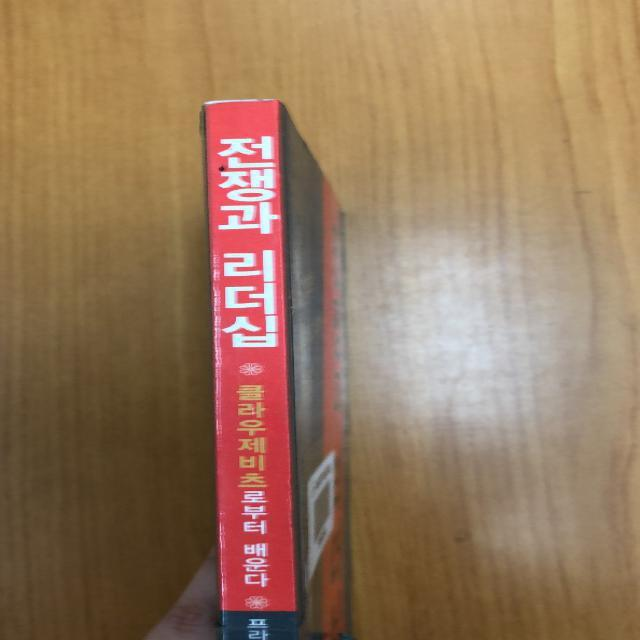Wornout: (196, 96, 281, 109)
